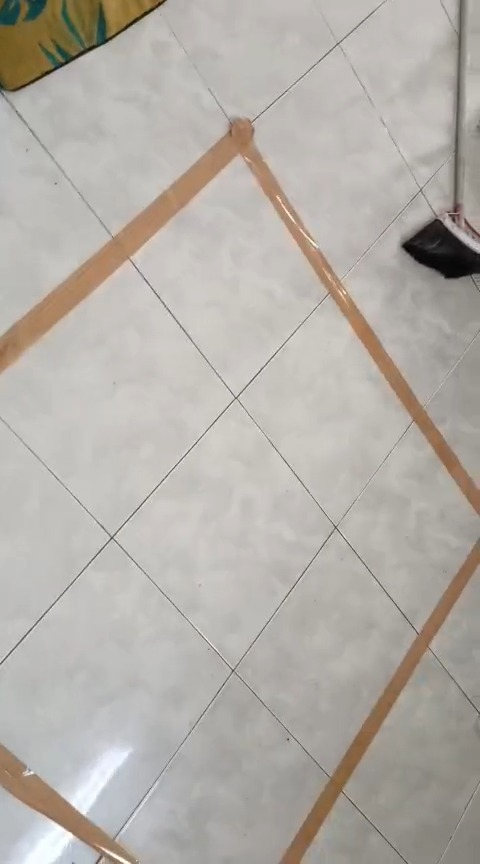floor marking: (0, 119, 479, 514), (281, 540, 479, 863), (0, 745, 138, 863)
